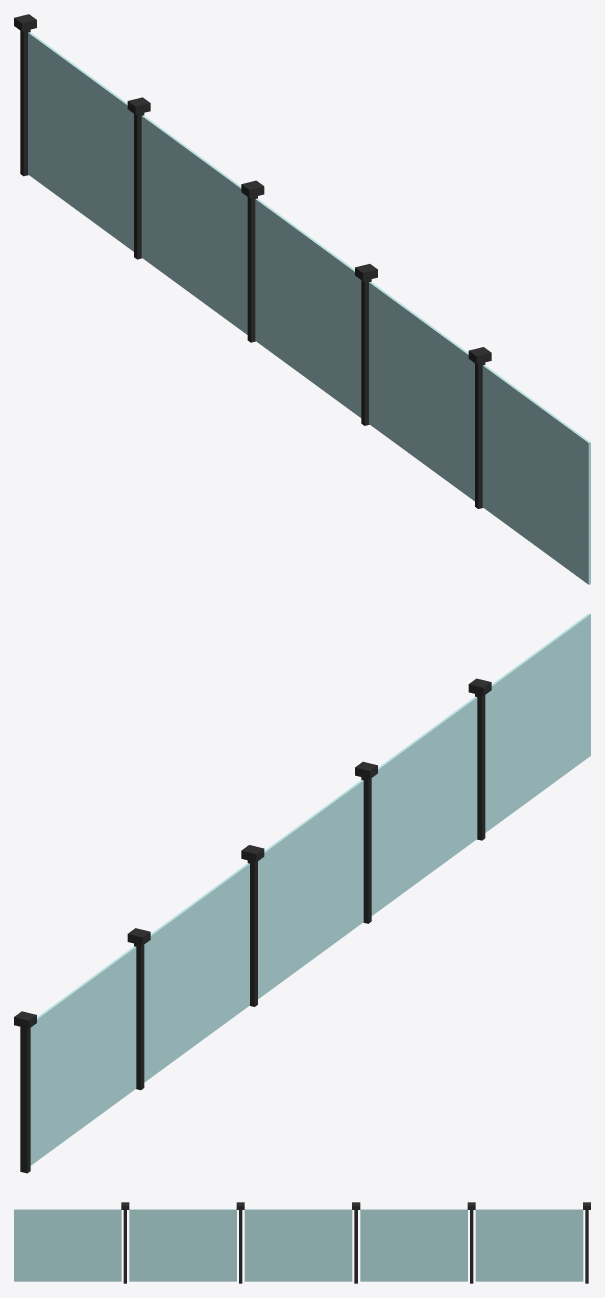
Rendered from Balcony.005.fbx.
3 renders of one model, top to bottom at view 1: azimuth 30°, elevation 25°; view 2: azimuth 150°, elevation 25°; view 3: azimuth 270°, elevation 25°, orthographic. The views are drawn at different scales.
Visible parts, largest first — view 1: Balcony.005; view 2: Balcony.005; view 3: Balcony.005.
Part boxes in pixels (x1=…): Balcony.005: x1=14, y1=14, x2=590, y2=584; Balcony.005: x1=14, y1=613, x2=590, y2=1173; Balcony.005: x1=14, y1=1202, x2=590, y2=1283.
Size of the model in its own units: 44.44 by 437 by 2898.
